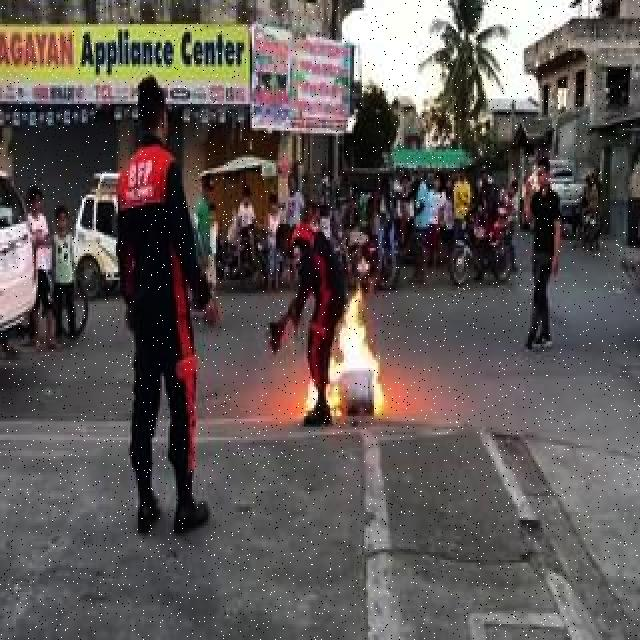fire: (314, 290, 387, 428)
